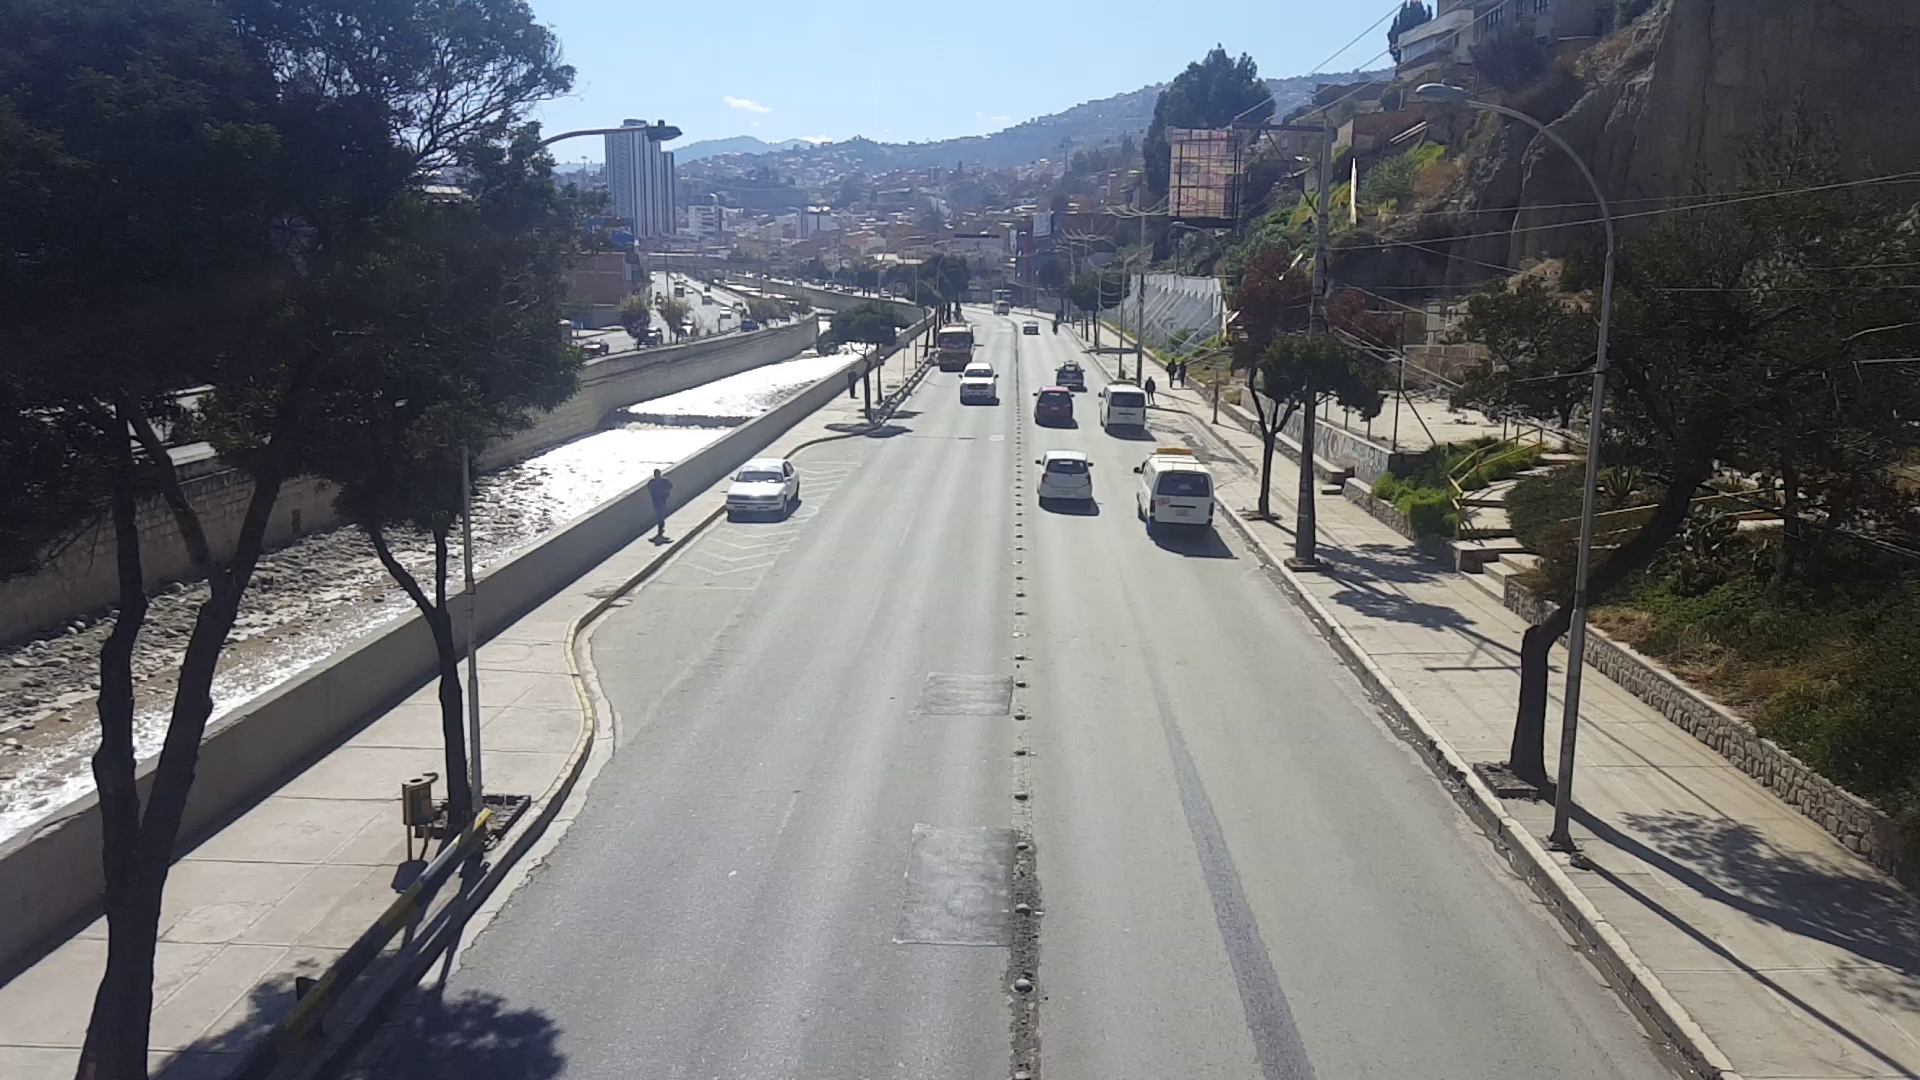automovil: (1033, 448, 1096, 501)
minibus: (1135, 447, 1217, 533)
